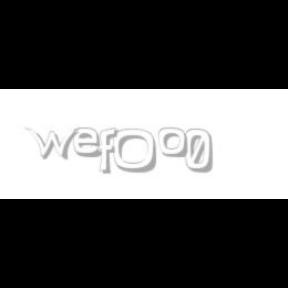0: (184, 128, 216, 174)
O: (112, 128, 158, 174)
e: (74, 128, 106, 158)
f: (98, 128, 122, 174)
o: (158, 128, 188, 158)
w: (24, 128, 84, 160)
